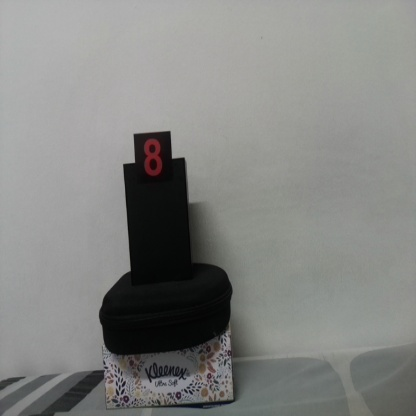id_8: (133, 133, 173, 187)
